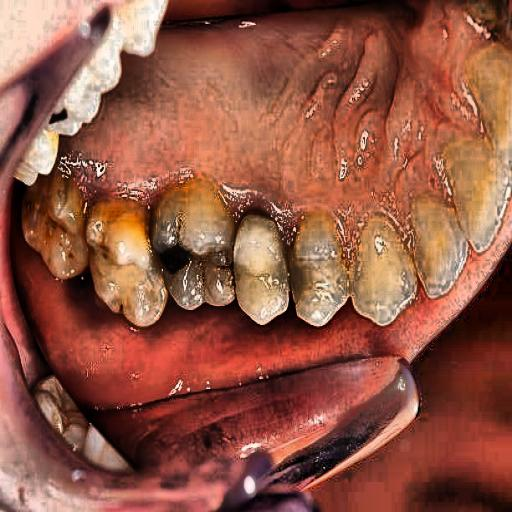Gingivitis: (106, 30, 428, 192)
